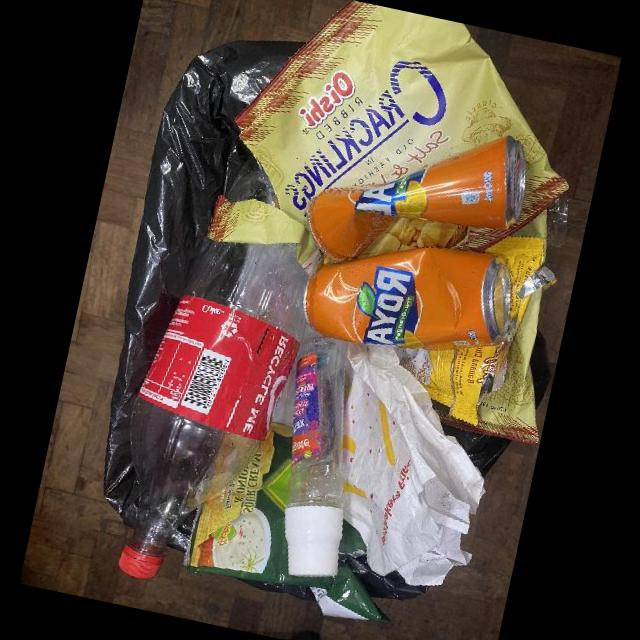bao_bi_thuc_pham: (206, 0, 571, 274), (183, 423, 387, 621), (397, 236, 556, 424), (430, 207, 556, 441)
chai_nhua: (284, 335, 347, 577)
chai_nhua_pet: (118, 239, 310, 578)
giay: (339, 343, 486, 586)
nhom: (308, 134, 526, 261), (303, 247, 513, 349)
